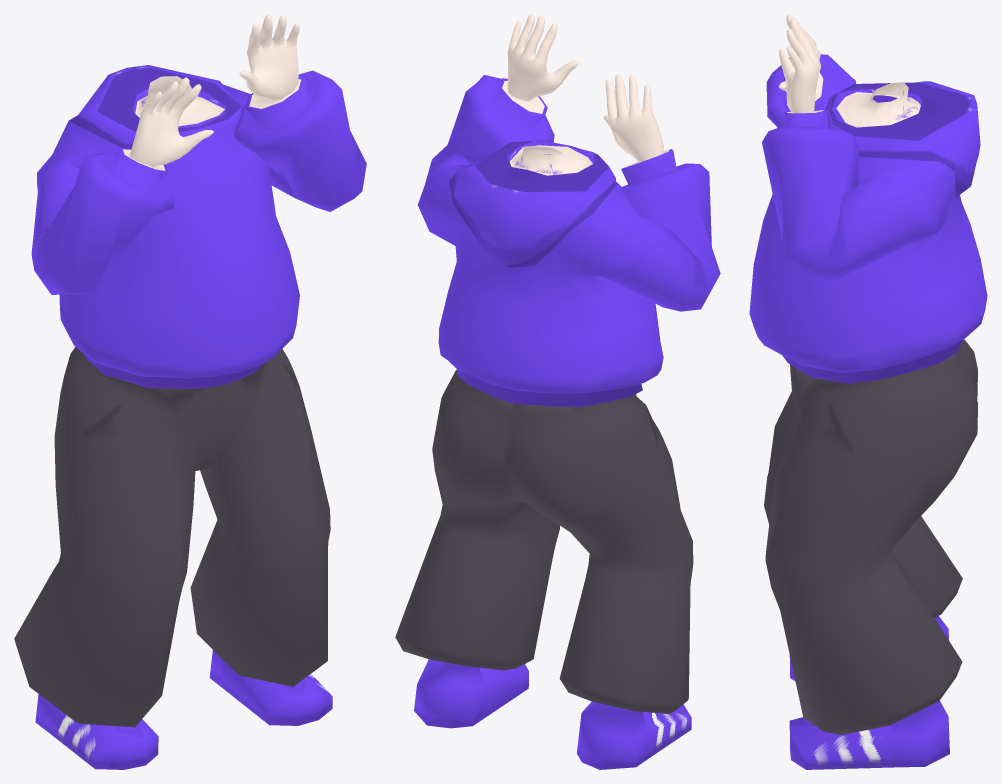
The model's file is portfolio_model_body.glb.
The picture shows the model from 3 angles, left to right: view 1: azimuth 30°, elevation 25°; view 2: azimuth 150°, elevation 25°; view 3: azimuth 270°, elevation 25°; orthographic projection. The views are drawn at different scales.
Visible parts, largest first — view 1: body.001; view 2: body.001; view 3: body.001.
Part boxes in pixels (<box>): body.001: <box>14,14,366,769</box>; body.001: <box>395,14,720,769</box>; body.001: <box>749,14,987,769</box>.
Size of the model in its own units: 4.66 by 10.26 by 3.08.
Materials: 1 (1 with a texture image).
